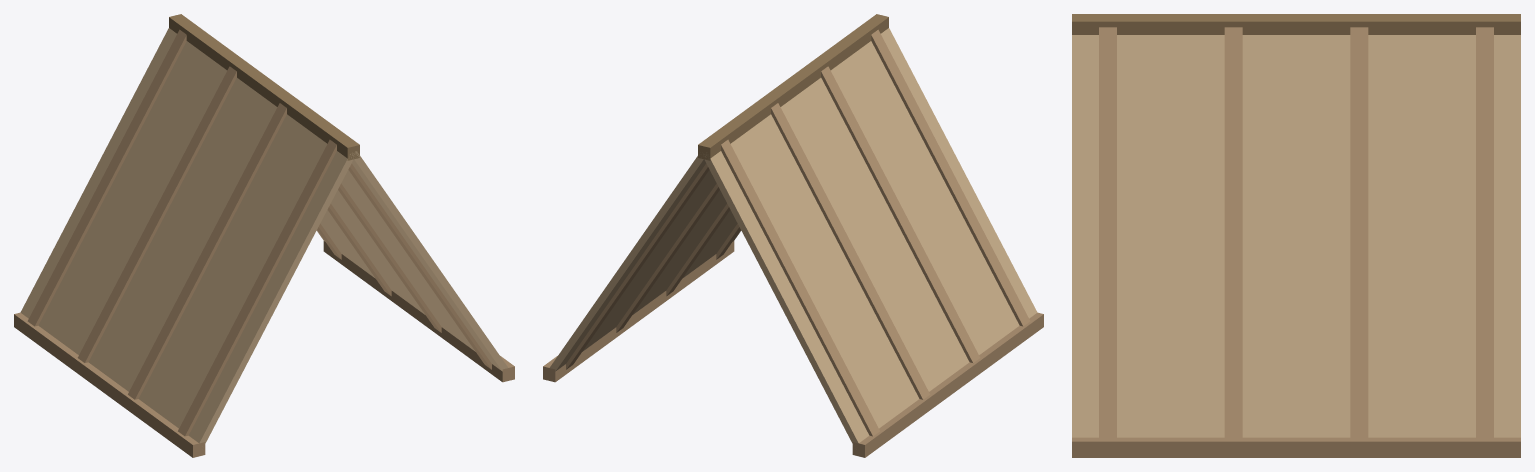
The model's file is 18-Casas_techo_dos_aguas.glb.
The picture shows the model from 3 angles, left to right: view 1: azimuth 30°, elevation 25°; view 2: azimuth 150°, elevation 25°; view 3: azimuth 270°, elevation 25°; orthographic projection. The views are drawn at different scales.
Visible parts, largest first — view 1: SM_Techo_M_Techo_Tablero, SM_Techo_M_Techo_Madera_Med, SM_Techo_M_Techo_Madera_Osc; view 2: SM_Techo_M_Techo_Tablero, SM_Techo_M_Techo_Madera_Med, SM_Techo_M_Techo_Madera_Osc; view 3: SM_Techo_M_Techo_Tablero, SM_Techo_M_Techo_Madera_Med, SM_Techo_M_Techo_Madera_Osc.
Boxes of the visible parts, x1=… form: SM_Techo_M_Techo_Tablero: x1=20, y1=28, x2=508, y2=446; SM_Techo_M_Techo_Madera_Med: x1=14, y1=29, x2=514, y2=457; SM_Techo_M_Techo_Madera_Osc: x1=169, y1=14, x2=359, y2=160; SM_Techo_M_Techo_Tablero: x1=549, y1=28, x2=1037, y2=449; SM_Techo_M_Techo_Madera_Med: x1=543, y1=29, x2=1043, y2=457; SM_Techo_M_Techo_Madera_Osc: x1=698, y1=14, x2=888, y2=160; SM_Techo_M_Techo_Tablero: x1=1072, y1=35, x2=1520, y2=437; SM_Techo_M_Techo_Madera_Med: x1=1072, y1=27, x2=1520, y2=457; SM_Techo_M_Techo_Madera_Osc: x1=1072, y1=14, x2=1520, y2=34.
Size of the model in its own units: 1.04 by 0.84 by 1.
